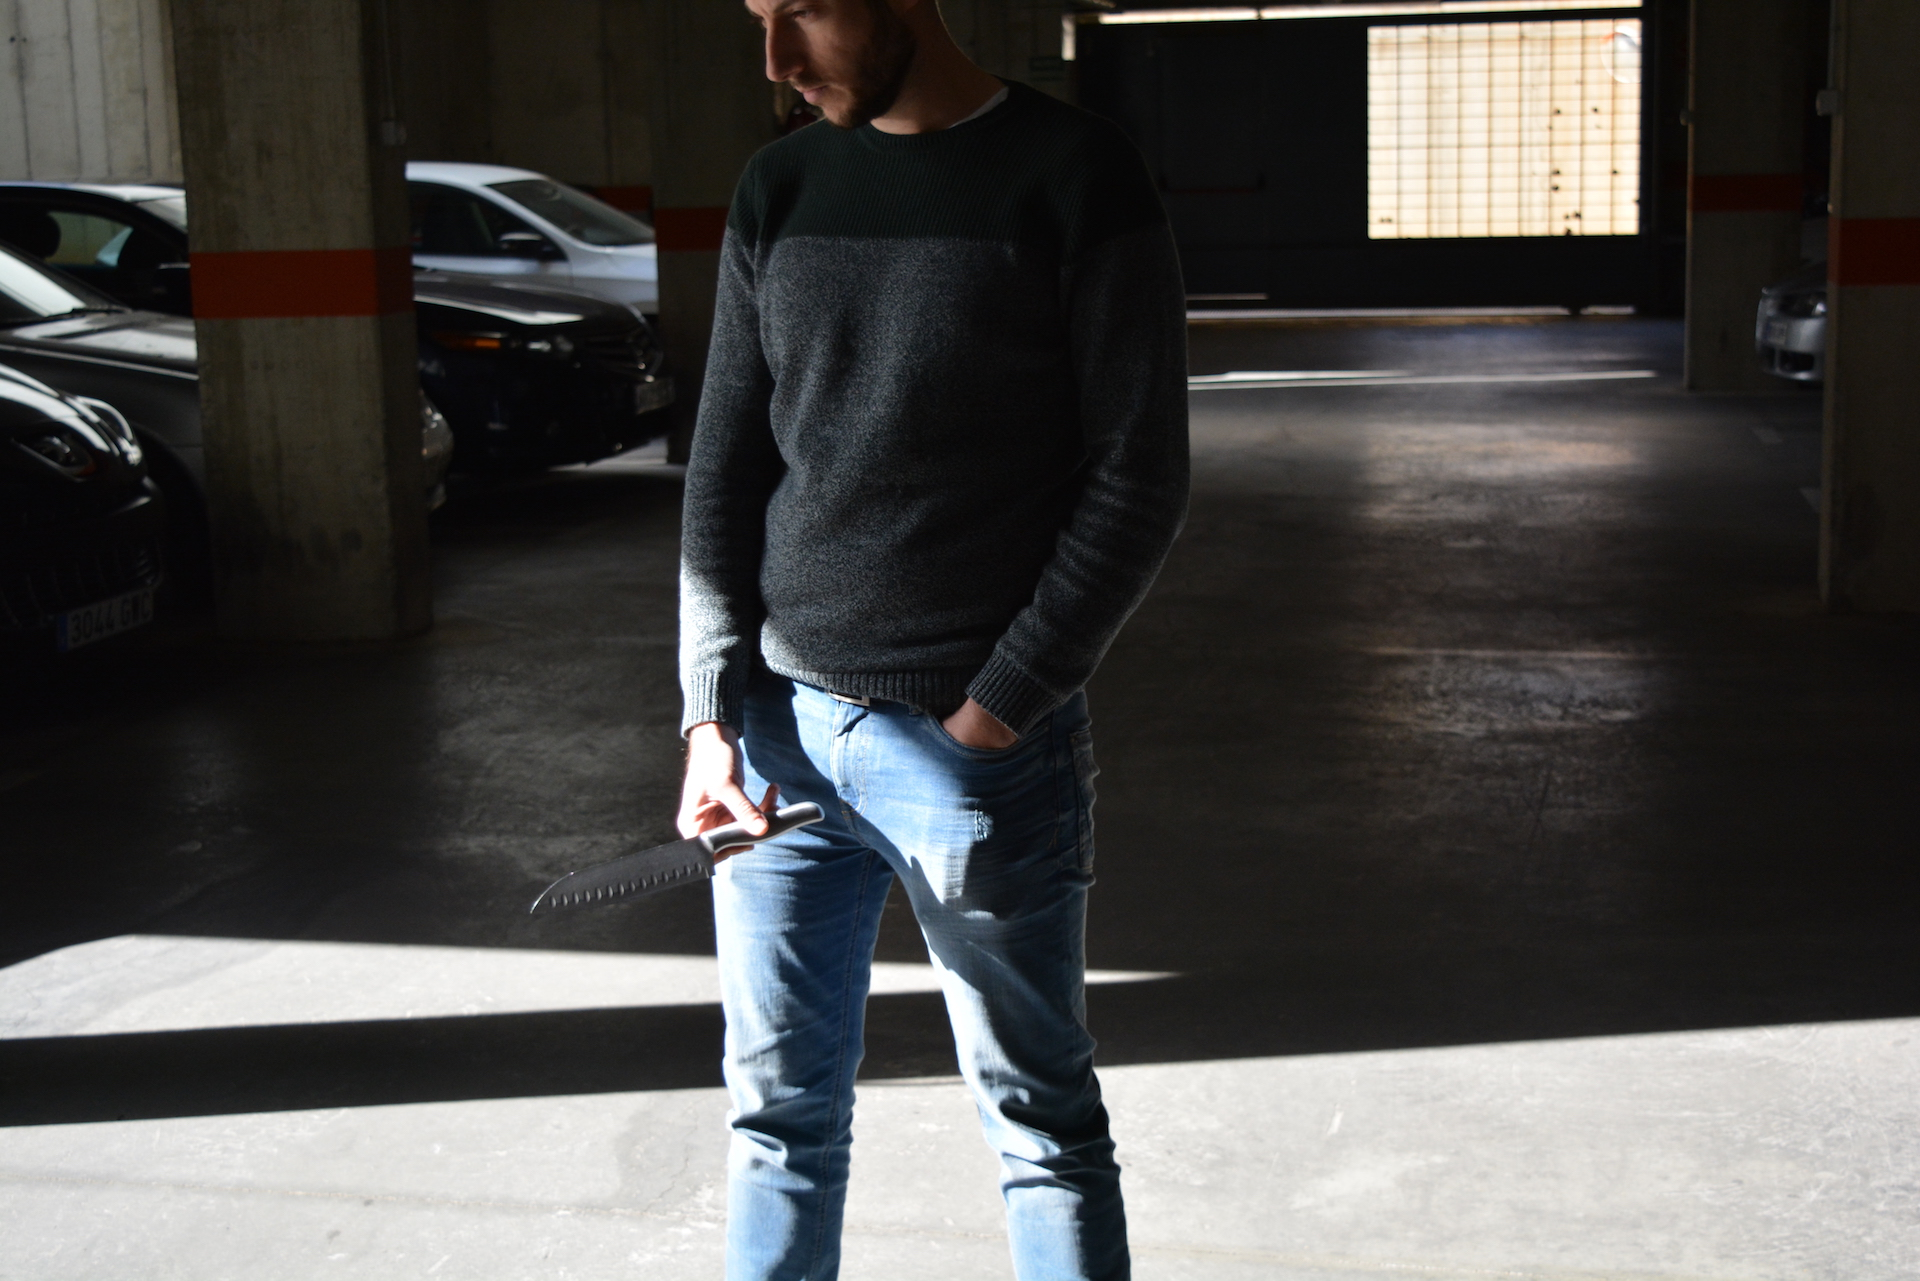knife: (518, 791, 831, 925)
